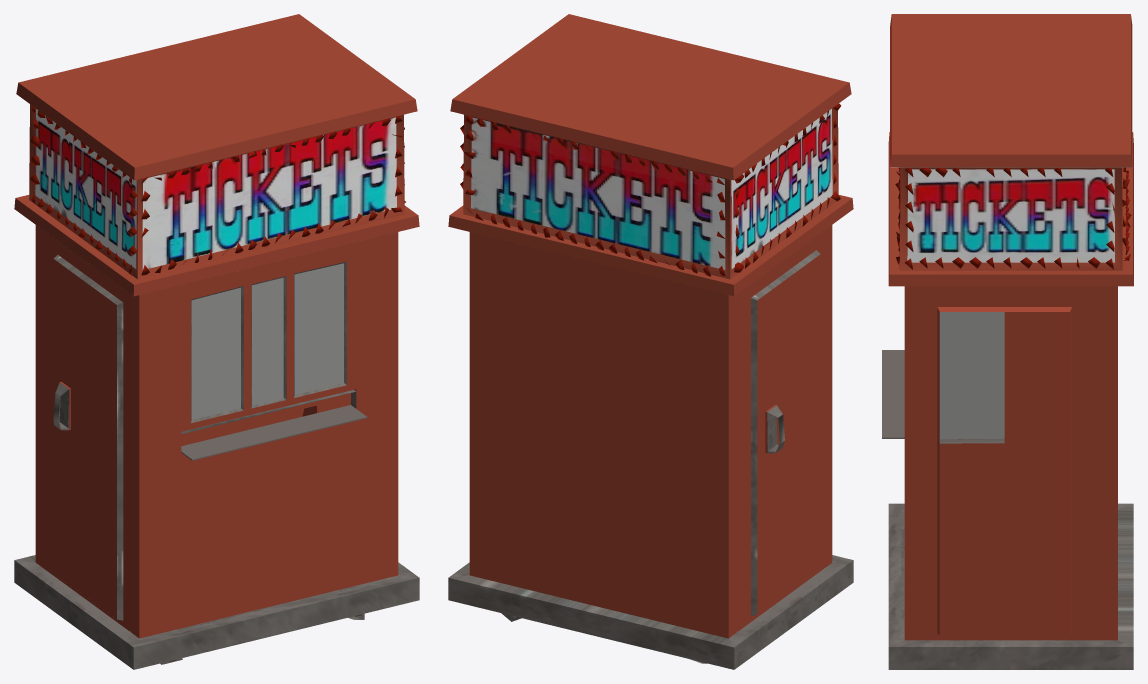
File: ticket-booth.lod0.glb
3 views of the same model, side by side, from view 1: azimuth 30°, elevation 25°; view 2: azimuth 150°, elevation 25°; view 3: azimuth 270°, elevation 25° (orthographic). The views are drawn at different scales.
Parts seen in each view (by area): view 1: Object_2, Object_5; view 2: Object_2, Object_5; view 3: Object_2, Object_5.
Part boxes in pixels (bbox=[...]): Object_2: bbox=[14, 14, 419, 638]; Object_5: bbox=[14, 109, 419, 669]; Object_2: bbox=[448, 14, 853, 638]; Object_5: bbox=[448, 109, 853, 669]; Object_2: bbox=[888, 14, 1133, 640]; Object_5: bbox=[882, 26, 1133, 669].
Bounding box in the file's own units: 1.63 × 2.8 × 1.2.
Materials: 2 (1 with a texture image).
